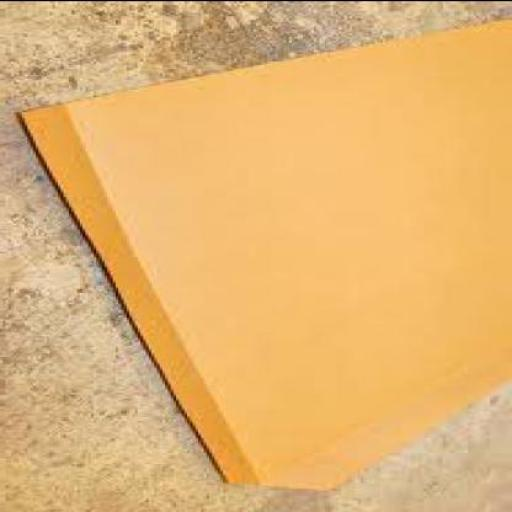cardboard: (18, 14, 511, 488)
